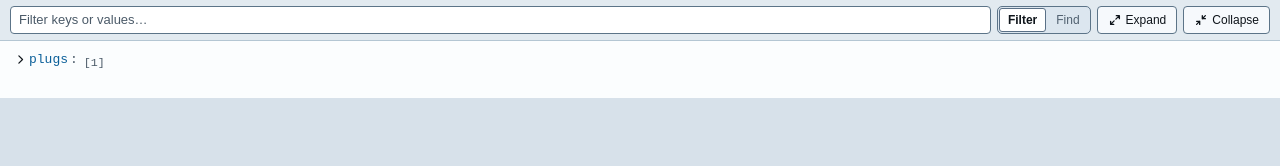
Test: Inspector JSON controls › shows resolved Bungie icons inside reference pills
Click the button "Expand" at (1137, 20), box top-left (1097, 6), bottom-right (1177, 34)
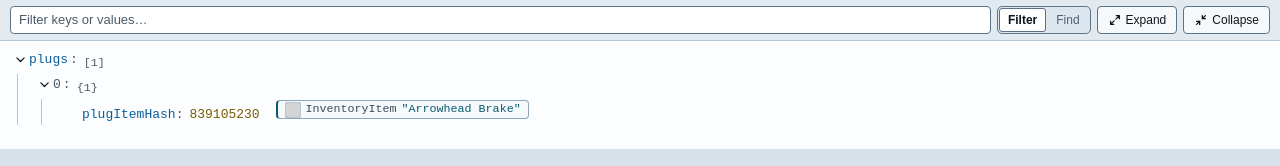
Check: the button "InventoryItem \"Arrowhead Brake\"" is shown, box top-left (276, 100), bottom-right (529, 119)
